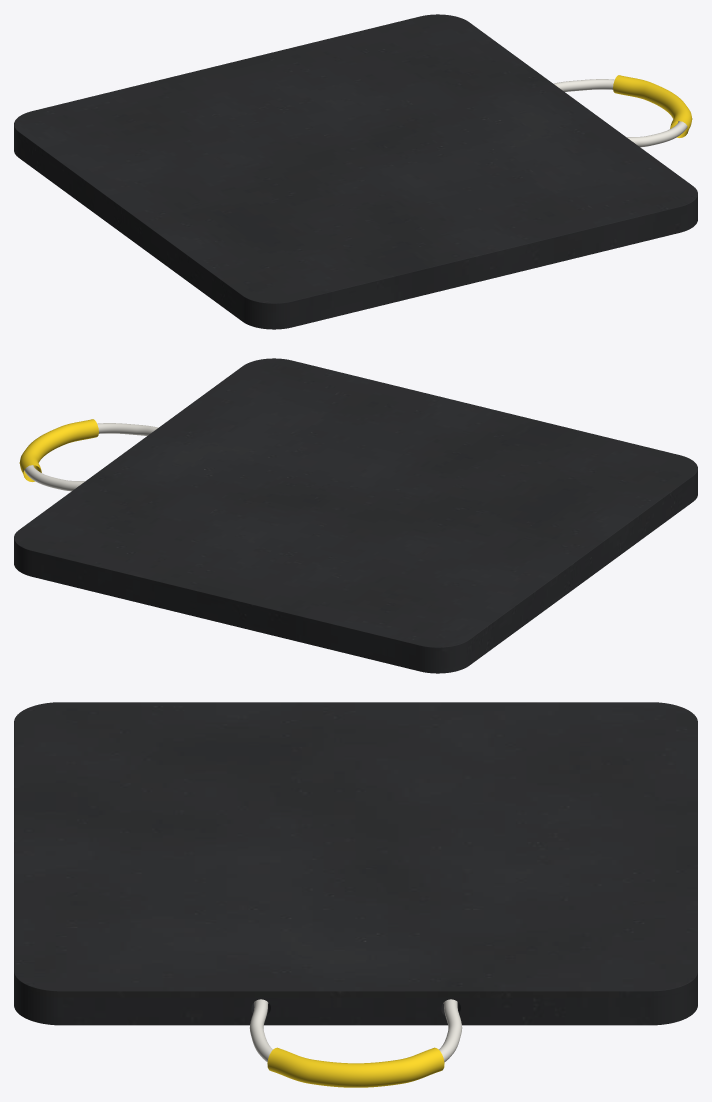
The picture shows the model from 3 angles, top to bottom: view 1: azimuth 30°, elevation 25°; view 2: azimuth 150°, elevation 25°; view 3: azimuth 270°, elevation 25°; orthographic projection. The views are drawn at different scales.
Visible parts, largest first — view 1: plate, sleeve, rope; view 2: plate, sleeve, rope; view 3: plate, sleeve, rope.
Boxes of the visible parts, x1,y1,x2,y2 form: plate: [14, 14, 697, 329]; sleeve: [613, 75, 692, 137]; rope: [553, 79, 687, 147]; plate: [14, 358, 697, 673]; sleeve: [19, 419, 98, 481]; rope: [24, 423, 158, 491]; plate: [14, 702, 697, 1025]; sleeve: [267, 1047, 444, 1087]; rope: [249, 999, 462, 1062].
Bounding box in the file's own units: 0.5562 × 0.0282 × 0.4572.
3 materials, 1 textured.
